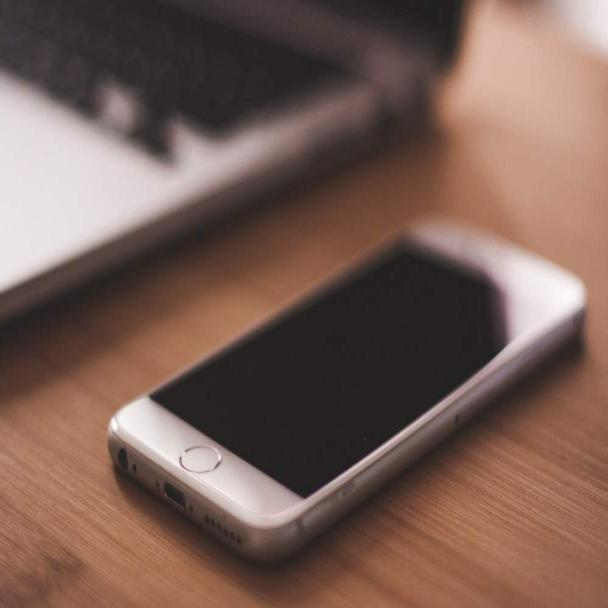Handphone: (89, 209, 601, 578)
